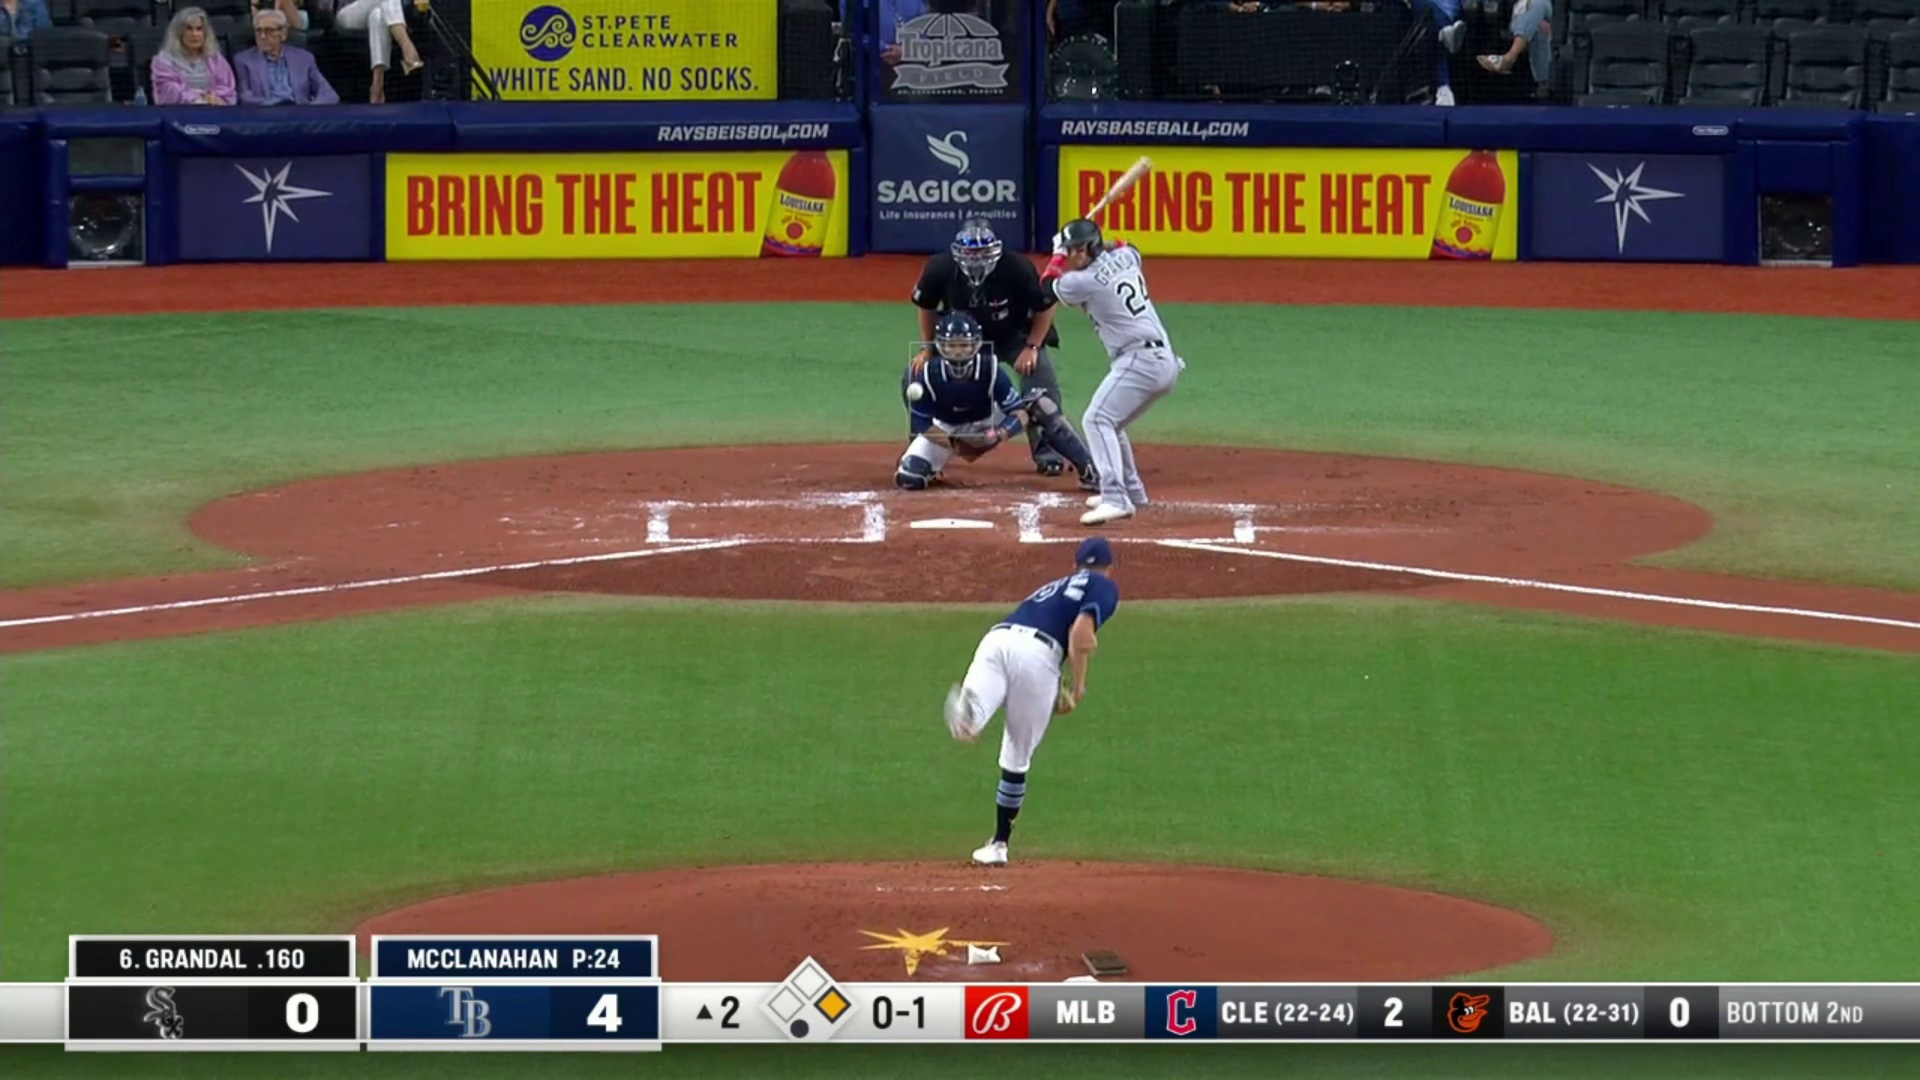baseball: (905, 381, 923, 400)
